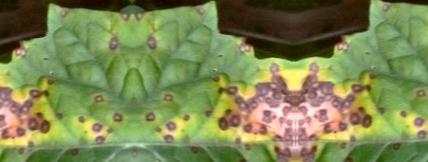Tomato Septoria leaf spot: (131, 0, 299, 162)
